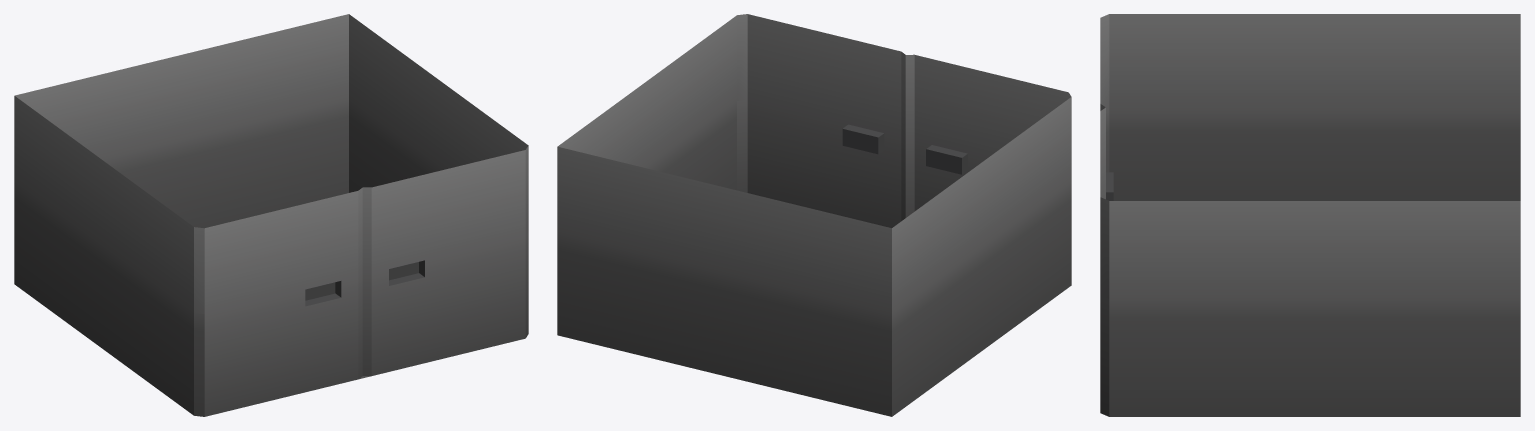
Rendered from Counter_01_v06.fbx.
3 views of the same model, side by side, from view 1: azimuth 30°, elevation 25°; view 2: azimuth 150°, elevation 25°; view 3: azimuth 270°, elevation 25° (orthographic). The views are drawn at different scales.
Visible parts, largest first — view 1: Counter_01_v06; view 2: Counter_01_v06; view 3: Counter_01_v06.
Boxes of the visible parts, <box> form: Counter_01_v06: <box>14,14,528,416</box>; Counter_01_v06: <box>557,14,1071,416</box>; Counter_01_v06: <box>1100,14,1520,416</box>.
Size of the model in its own units: 100 by 53.91 by 94.97.
